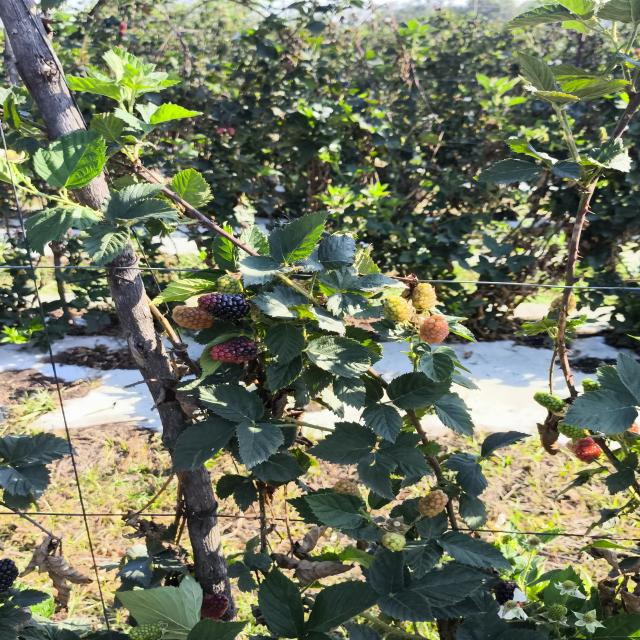marron: (198, 293, 249, 320), (209, 336, 257, 363)
naranja: (172, 306, 212, 330), (419, 314, 449, 344), (418, 489, 448, 517), (201, 593, 228, 620), (574, 437, 601, 462)
verde: (383, 296, 414, 322), (412, 283, 437, 310), (129, 622, 164, 640), (534, 392, 565, 412), (216, 274, 243, 293), (557, 422, 586, 439), (382, 532, 406, 551)
